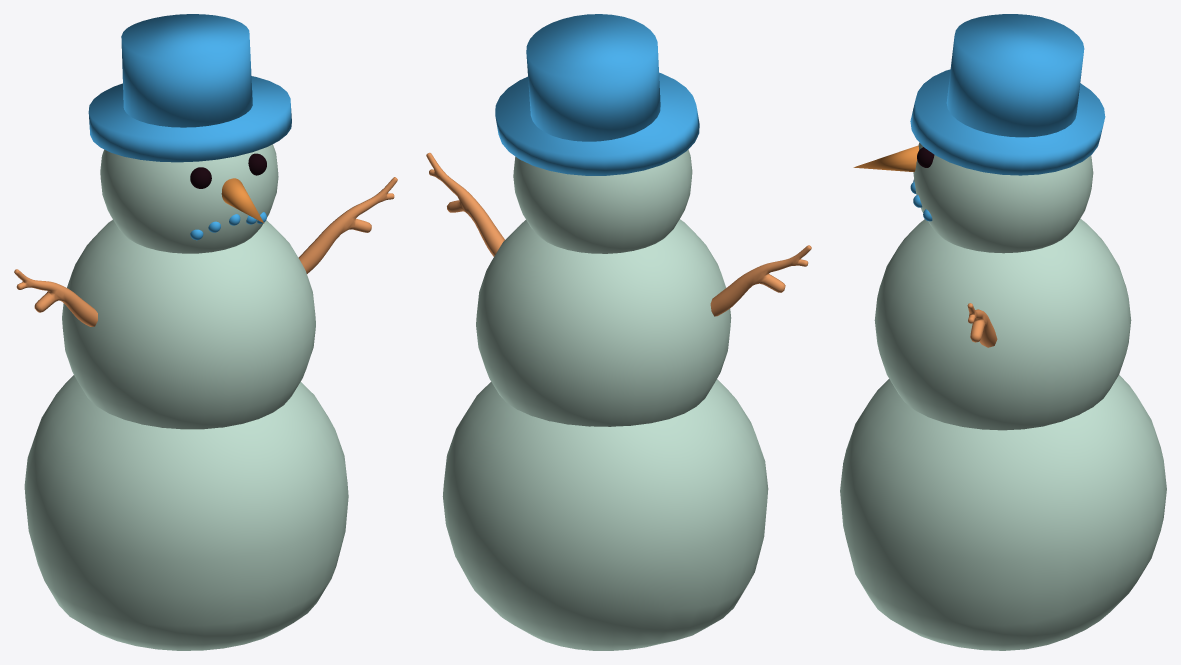
The model's file is SnowmanSadThree.fbx.
3 views of the same model, side by side, from view 1: azimuth 30°, elevation 25°; view 2: azimuth 150°, elevation 25°; view 3: azimuth 270°, elevation 25° (orthographic).
Visible parts, largest first — view 1: Sphere.002, Sphere, Hat Top, Sphere.001, Hat Rim, Vert.002, Cone; view 2: Sphere.002, Sphere, Hat Top, Sphere.001, Hat Rim, Vert.002; view 3: Sphere.002, Sphere, Hat Top, Sphere.001, Hat Rim, Cone, Vert.002.
Part boxes in pixels (bbox=[...]): Sphere.002: bbox=[24, 375, 348, 650]; Sphere: bbox=[62, 220, 315, 429]; Hat Top: bbox=[121, 14, 252, 127]; Sphere.001: bbox=[100, 144, 278, 253]; Hat Rim: bbox=[88, 76, 291, 162]; Vert.002: bbox=[14, 177, 397, 326]; Cone: bbox=[221, 178, 264, 223]; Sphere.002: bbox=[442, 379, 768, 650]; Sphere: bbox=[476, 219, 731, 426]; Hat Top: bbox=[526, 14, 660, 141]; Sphere.001: bbox=[513, 149, 692, 253]; Hat Rim: bbox=[495, 72, 699, 175]; Vert.002: bbox=[426, 152, 811, 316]; Sphere.002: bbox=[840, 375, 1166, 650]; Sphere: bbox=[874, 218, 1131, 430]; Hat Top: bbox=[946, 14, 1084, 137]; Sphere.001: bbox=[913, 142, 1093, 253]; Hat Rim: bbox=[910, 69, 1105, 175]; Cone: bbox=[853, 145, 918, 171]; Vert.002: bbox=[967, 303, 997, 347].
Bounding box in the file's own units: 347 × 509 × 255.
